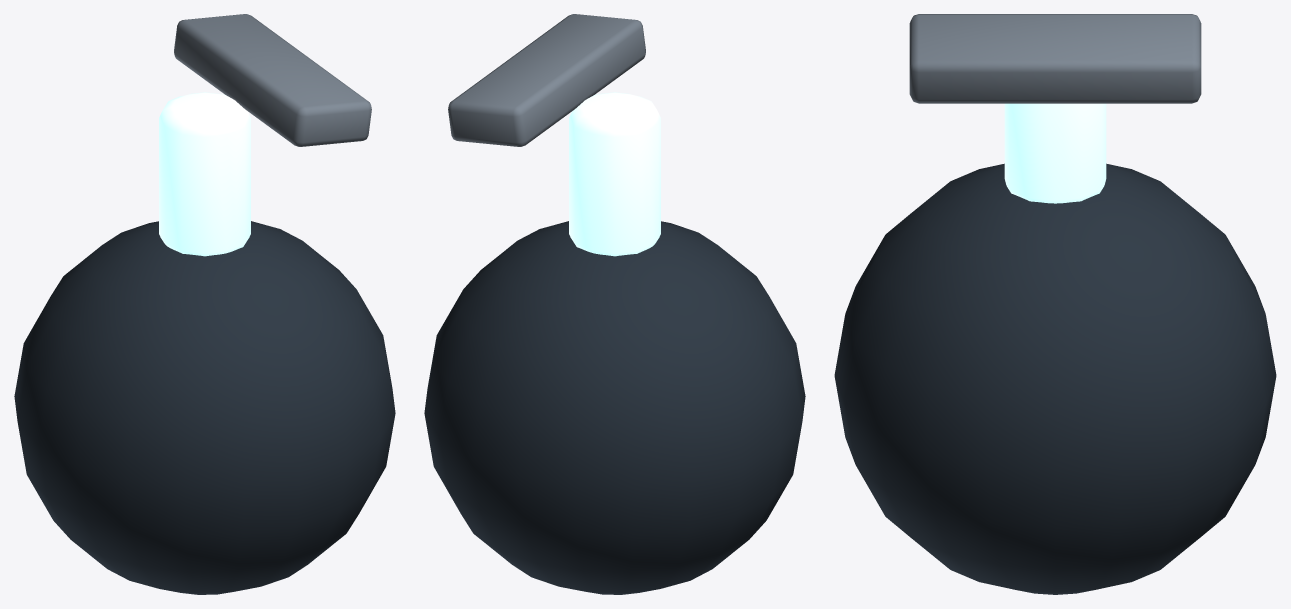
Rendered from Soldier_APGrenade.fbx.
3 views of the same model, side by side, from view 1: azimuth 30°, elevation 25°; view 2: azimuth 150°, elevation 25°; view 3: azimuth 270°, elevation 25° (orthographic). The views are drawn at different scales.
Visible parts, largest first — view 1: Core.003, SafetyLever.003, Fuse.003; view 2: Core.003, SafetyLever.003, Fuse.003; view 3: Core.003, SafetyLever.003, Fuse.003.
Boxes of the visible parts, bbox=[...] form: Core.003: bbox=[14, 221, 395, 594]; SafetyLever.003: bbox=[174, 14, 371, 146]; Fuse.003: bbox=[159, 92, 250, 256]; Core.003: bbox=[424, 221, 805, 594]; SafetyLever.003: bbox=[448, 14, 645, 146]; Fuse.003: bbox=[569, 92, 660, 256]; Core.003: bbox=[834, 163, 1276, 594]; SafetyLever.003: bbox=[909, 14, 1201, 103]; Fuse.003: bbox=[1004, 103, 1106, 203].
Bounding box in the file's own units: 88 × 128 × 88.
